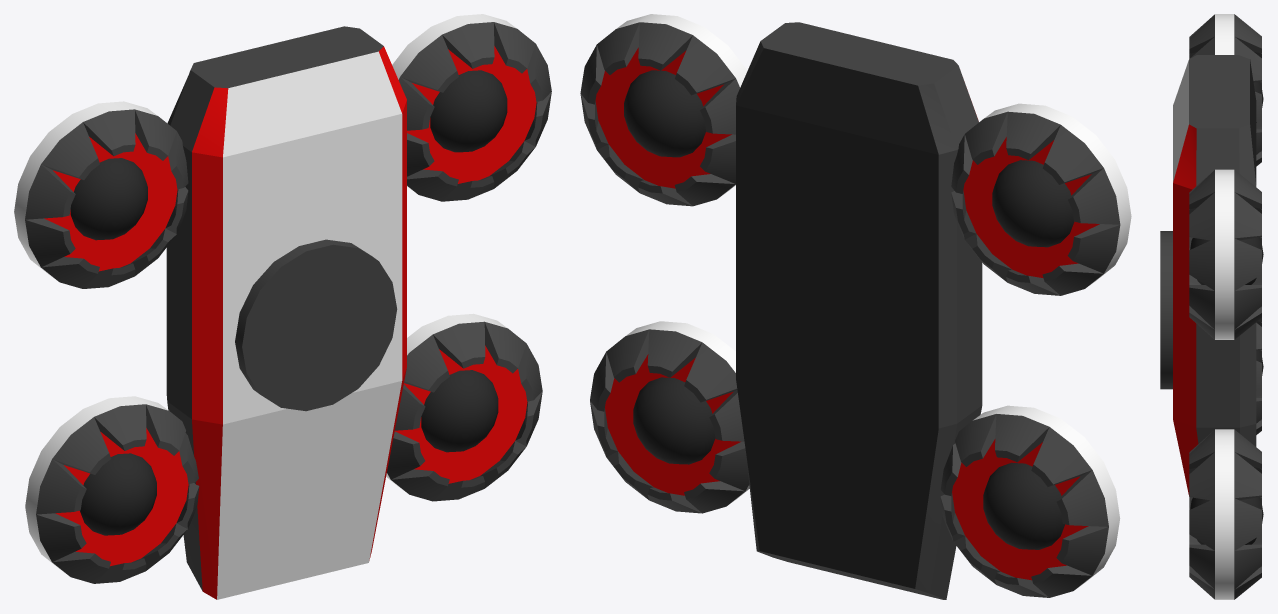
Rendered from hoverbase.obj.
The picture shows the model from 3 angles, left to right: view 1: azimuth 30°, elevation 25°; view 2: azimuth 150°, elevation 25°; view 3: azimuth 270°, elevation 25°; orthographic projection. The views are drawn at different scales.
Visible parts, largest first — view 1: Box001, Cylinder026, Cylinder032, Cylinder029, Cylinder031, Cylinder030, Sphere003, Sphere004, Sphere001, Sphere002; view 2: Box001, Cylinder032, Cylinder029, Cylinder031, Cylinder030, Sphere003, Sphere004, Sphere001, Sphere002; view 3: Box001, Cylinder030, Cylinder031, Cylinder032, Cylinder026, Cylinder029, Sphere003, Sphere004.
Part boxes in pixels (<box>): Box001: <box>166,26,406,599</box>; Cylinder026: <box>235,239,397,411</box>; Cylinder032: <box>14,101,188,288</box>; Cylinder029: <box>25,396,199,583</box>; Cylinder031: <box>392,14,551,201</box>; Cylinder030: <box>386,313,542,501</box>; Sphere003: <box>421,370,498,452</box>; Sphere004: <box>430,70,507,152</box>; Sphere001: <box>70,158,147,240</box>; Sphere002: <box>80,453,156,535</box>; Box001: <box>736,22,982,599</box>; Cylinder032: <box>951,103,1131,295</box>; Cylinder029: <box>940,405,1120,597</box>; Cylinder031: <box>580,14,747,206</box>; Cylinder030: <box>590,321,749,513</box>; Sphere003: <box>633,377,715,464</box>; Sphere004: <box>624,70,705,157</box>; Sphere001: <box>992,160,1074,247</box>; Sphere002: <box>983,462,1064,549</box>; Box001: <box>1173,55,1256,496</box>; Cylinder030: <box>1189,429,1261,599</box>; Cylinder031: <box>1189,169,1261,339</box>; Cylinder032: <box>1189,14,1261,166</box>; Cylinder026: <box>1160,231,1172,389</box>; Cylinder029: <box>1256,318,1261,434</box>; Sphere003: <box>1190,497,1263,544</box>; Sphere004: <box>1190,237,1263,284</box>.
Bounding box in the file's own units: 2.04 × 1.92 × 0.3894.
